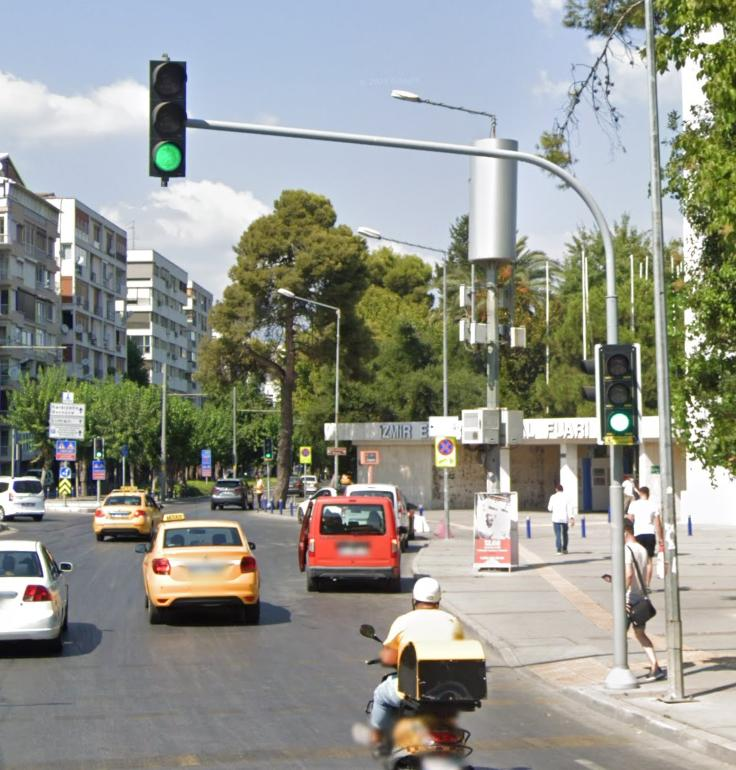greenlight: (146, 58, 189, 176), (597, 341, 634, 432)
